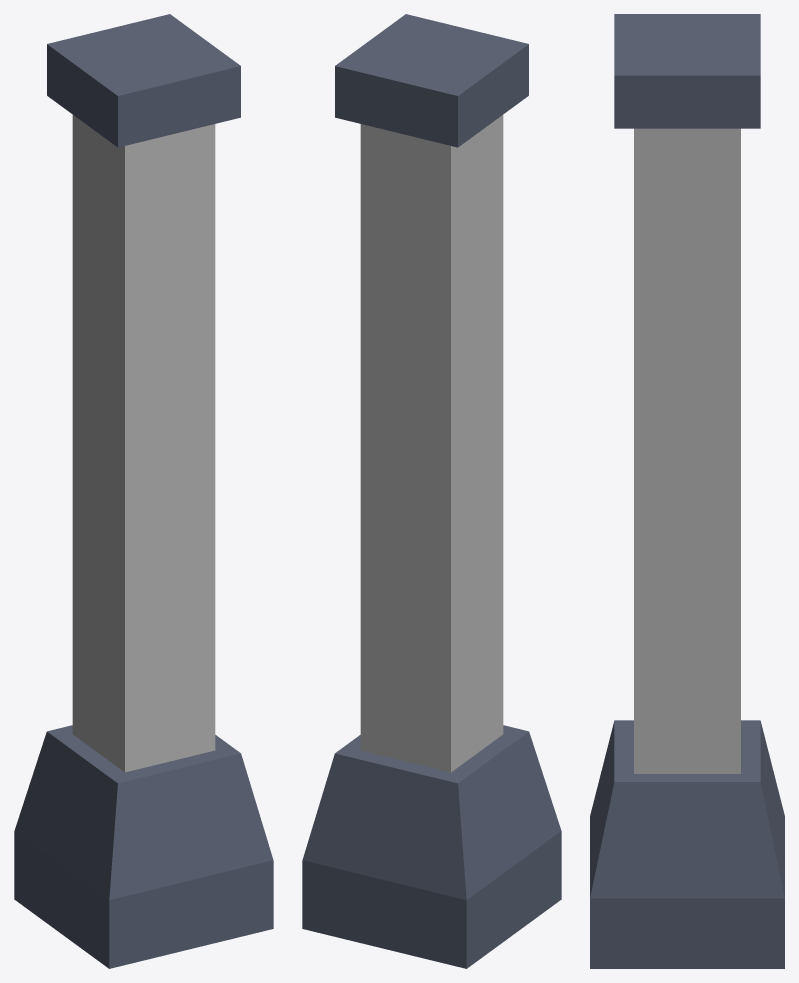
The model's file is SM_Pillar.fbx.
3 views of the same model, side by side, from view 1: azimuth 30°, elevation 25°; view 2: azimuth 150°, elevation 25°; view 3: azimuth 270°, elevation 25° (orthographic). The views are drawn at different scales.
Parts seen in each view (by area): view 1: SM_Pillar; view 2: SM_Pillar; view 3: SM_Pillar.
Part boxes in pixels (x1,y1,x2,y2): SM_Pillar: [14, 14, 273, 968]; SM_Pillar: [302, 14, 561, 968]; SM_Pillar: [590, 14, 784, 968].
Bounding box in the file's own units: 100 × 500 × 100.
